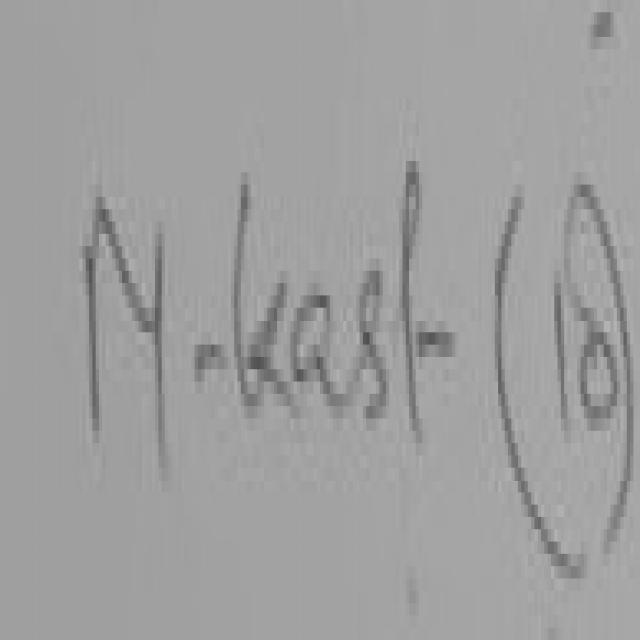0: (579, 320, 616, 426)
1: (558, 283, 571, 431)
M: (86, 197, 165, 462)
a: (290, 282, 352, 415)
k: (232, 178, 297, 421)
s: (348, 272, 387, 419)
t: (400, 148, 450, 440)
